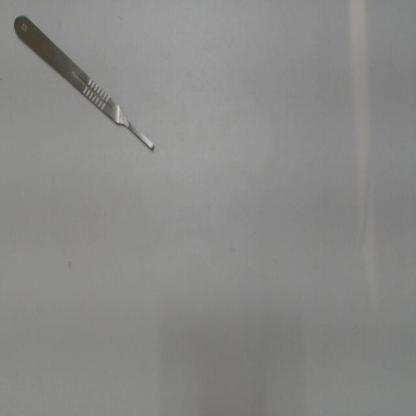No.4 BP Handle: (12, 4, 162, 159)
